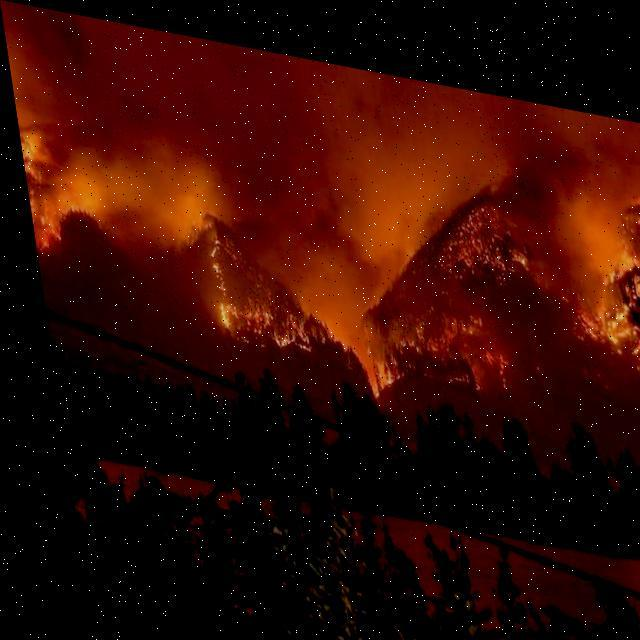Fire: (408, 139, 639, 397), (204, 240, 312, 348), (15, 121, 70, 252)
